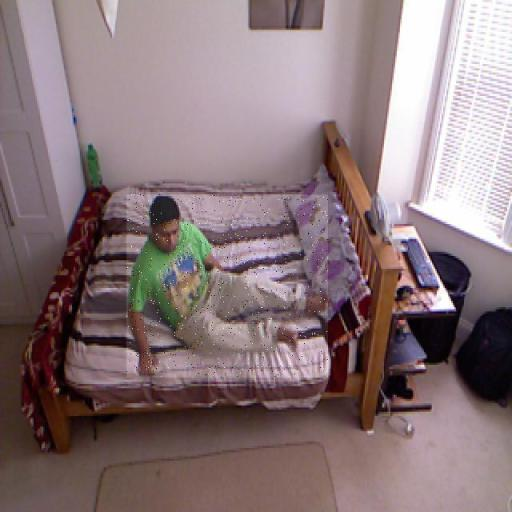Fall: (126, 195, 328, 378)
